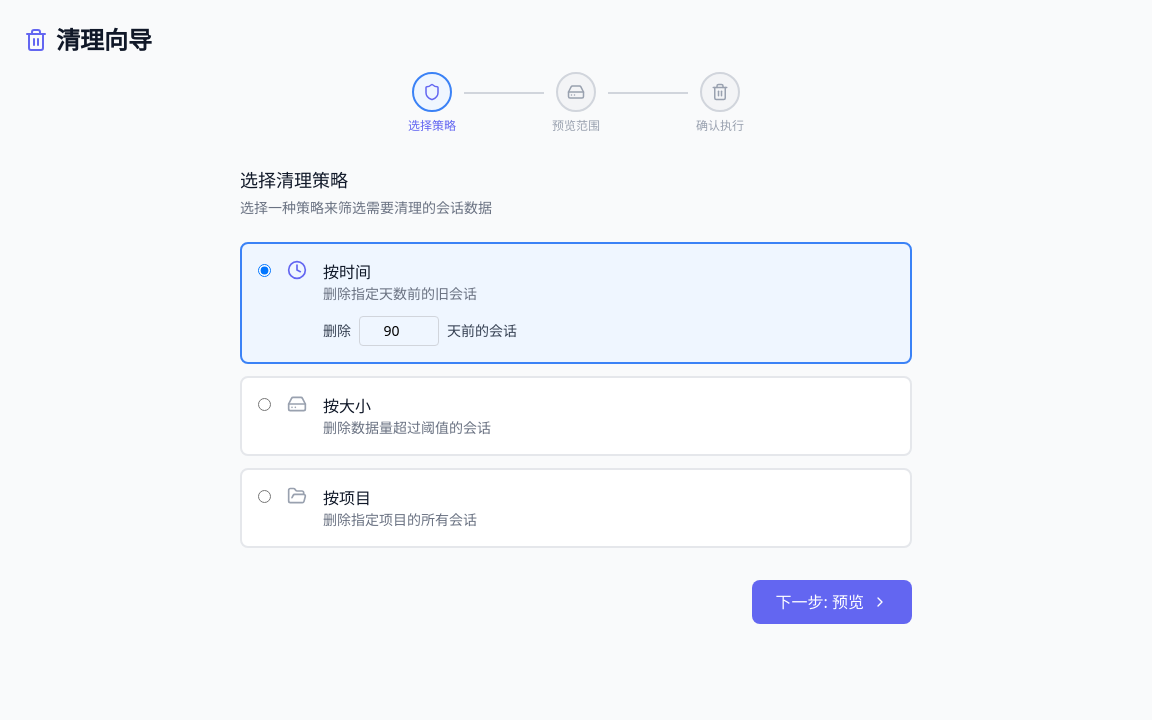
Scenario: Cleanup 按项目口径 › 任选项目后能在预览页看到非空会话列表
This screenshot has width=1152, height=720.
Click the text "按项目": (347, 498) 323,487 -> 371,509
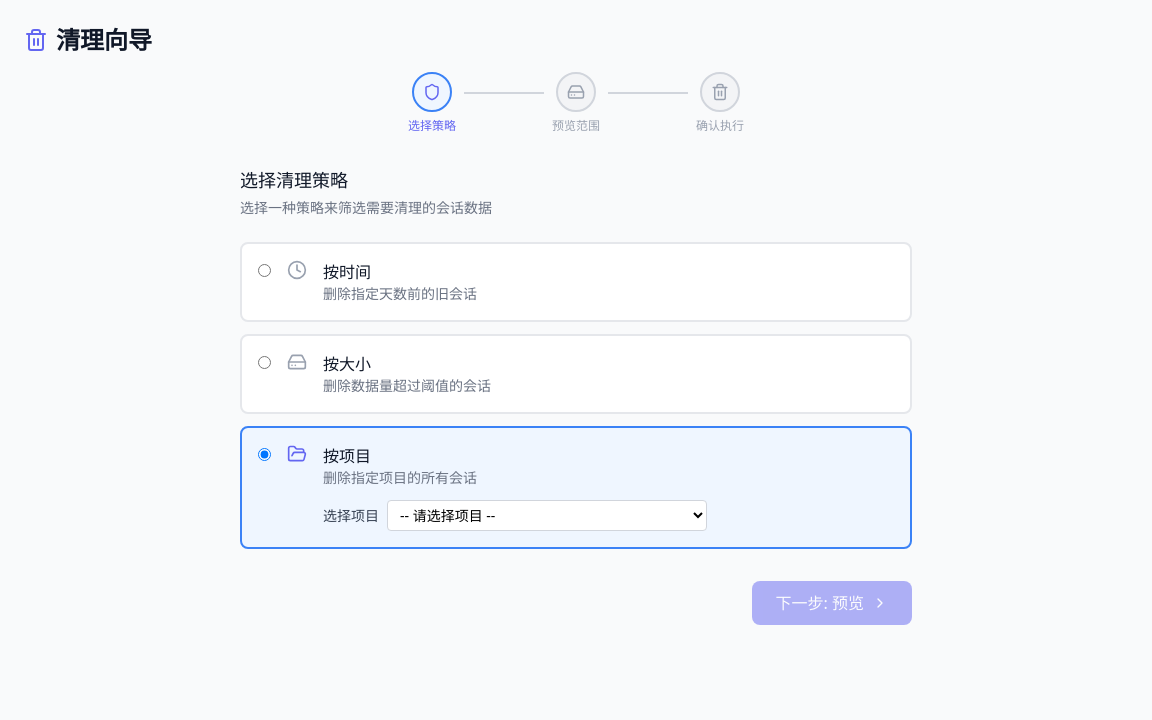
Select "~/dev/demo" in the dropdown: (547, 516) 387,500 -> 707,531
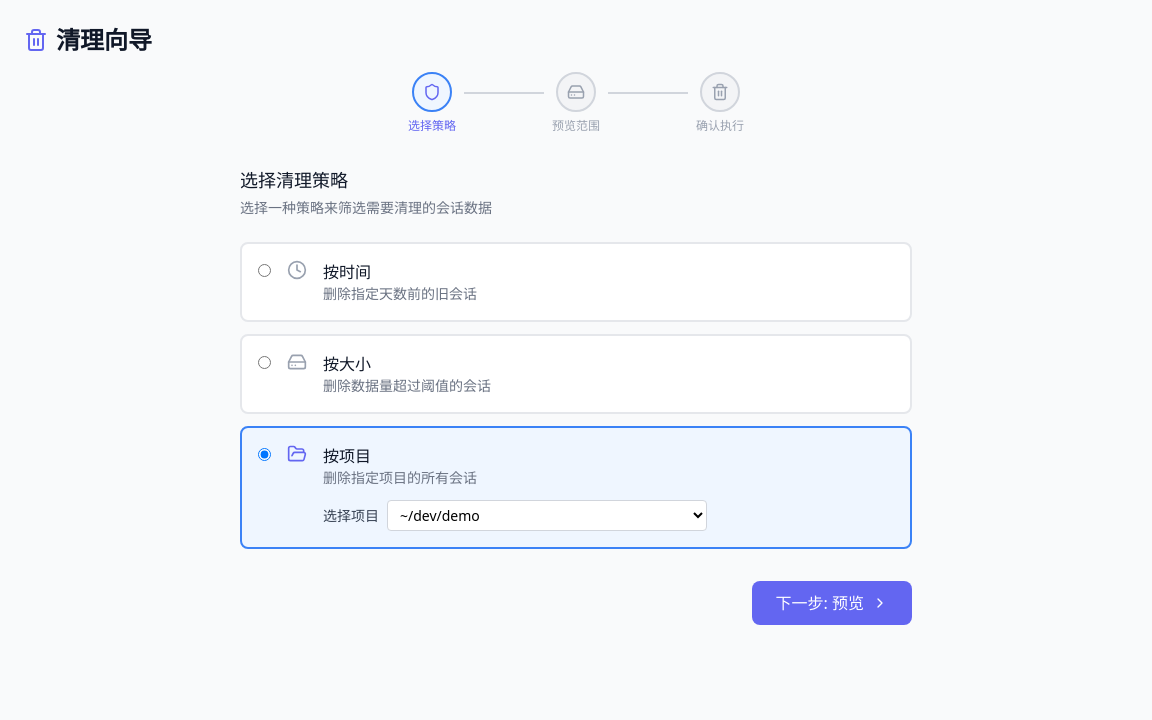
Click the button "下一步: 预览": (832, 603) 752,581 -> 912,625
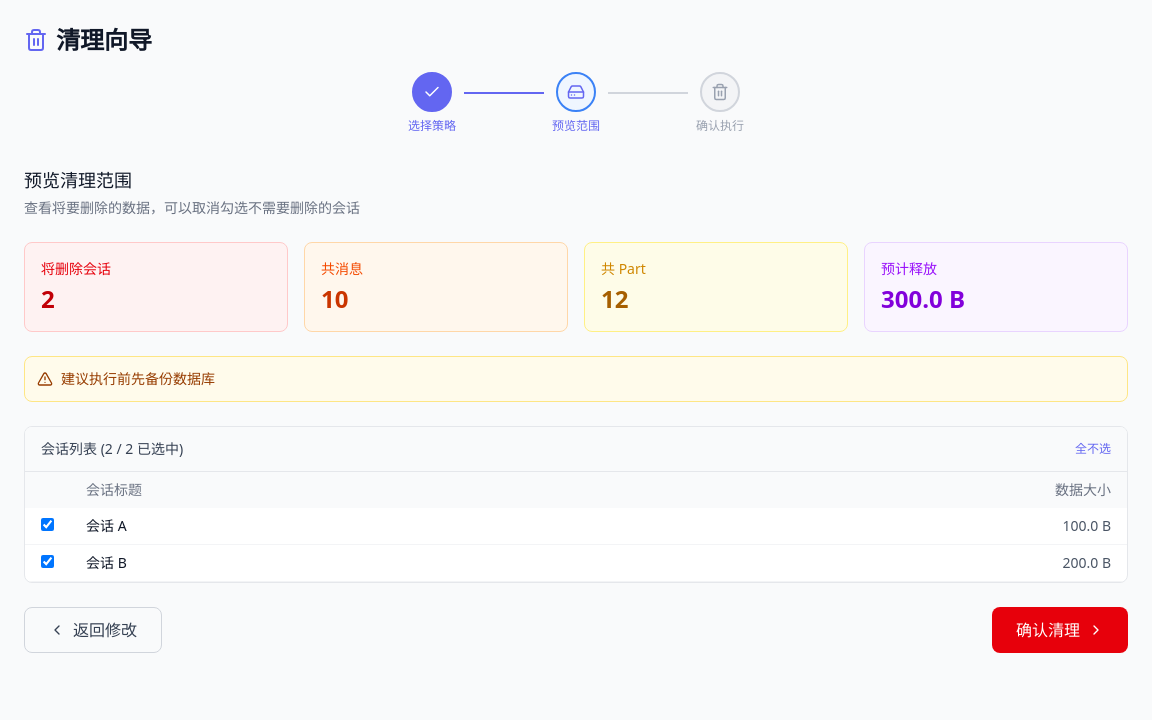
Expected: the heading "预览清理范围" is shown, 24,168 -> 132,192
Expected: the text "会话 A" is shown, 70,508 -> 1015,544
Expected: the text "会话 B" is shown, 70,544 -> 1015,582
